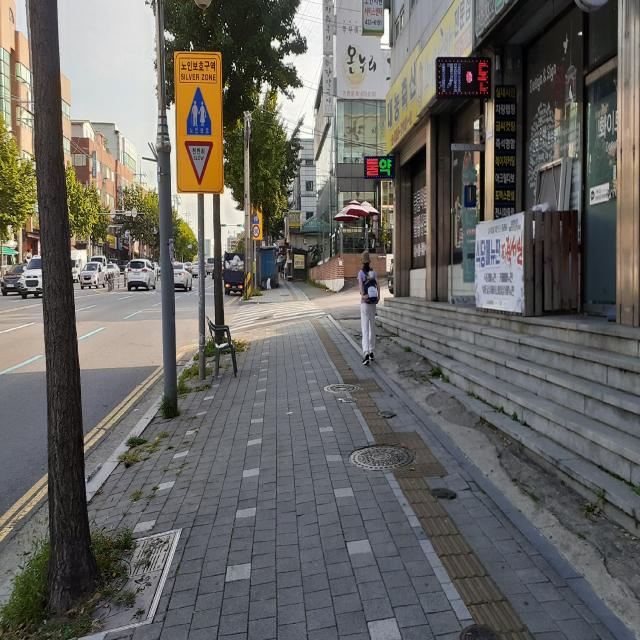횡단보도: (229, 300, 326, 333)
